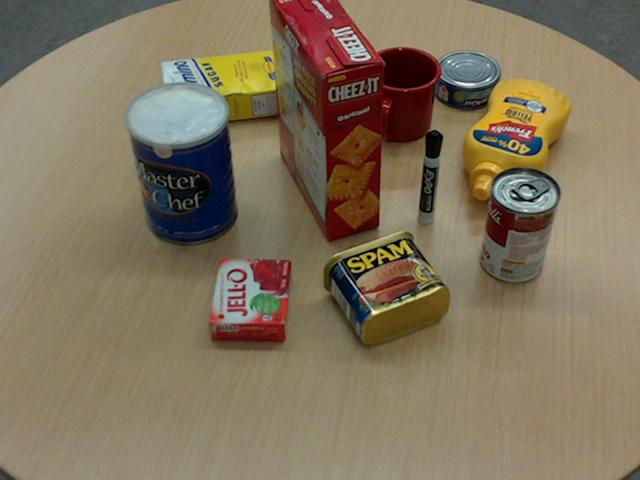cracker_box: (269, 0, 382, 239)
gelatin_box: (208, 256, 292, 340)
large_marker: (418, 130, 442, 223)
master_chef_can: (125, 81, 237, 245)
mug: (363, 46, 441, 141)
mustard_bottle: (461, 79, 569, 200)
potted_meat_can: (321, 229, 449, 344)
sugar_box: (159, 47, 308, 125)
tomato_soup_can: (480, 166, 560, 282)
tuna_fish_can: (431, 49, 499, 108)
